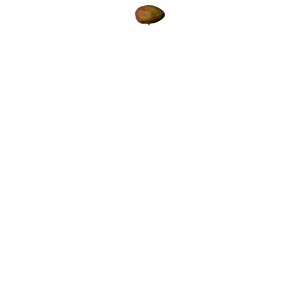mamão: (131, 4, 168, 25)
